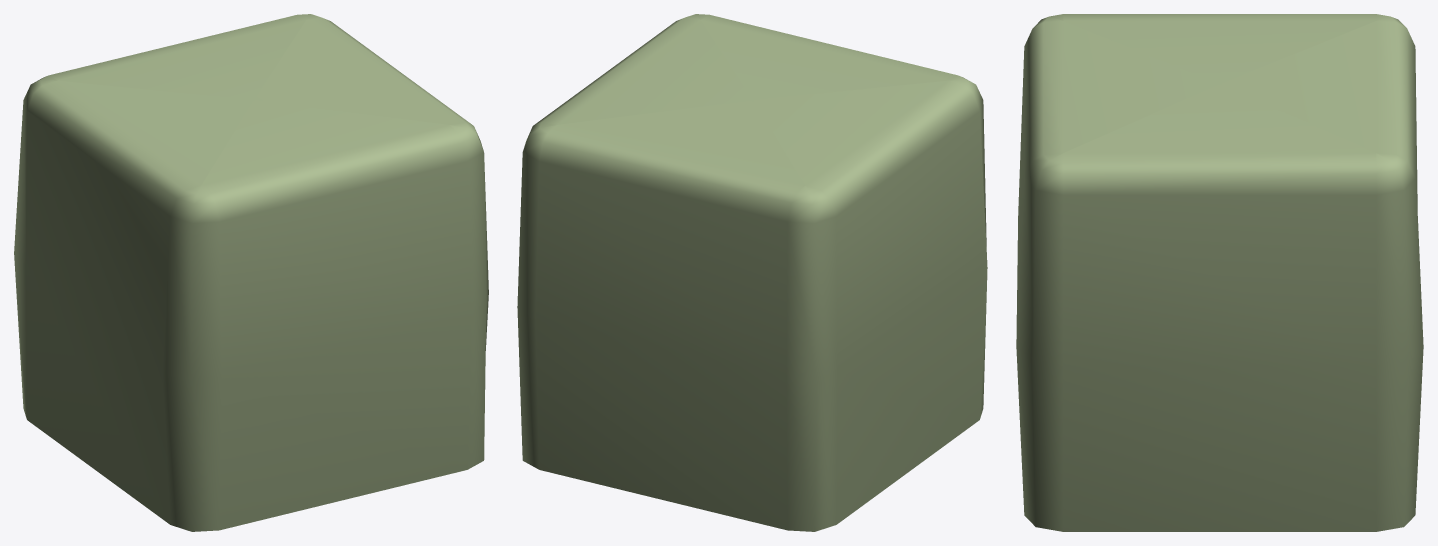
The model's file is ground-top.glb.
3 views of the same model, side by side, from view 1: azimuth 30°, elevation 25°; view 2: azimuth 150°, elevation 25°; view 3: azimuth 270°, elevation 25° (orthographic). The views are drawn at different scales.
Visible parts, largest first — view 1: ground-top; view 2: ground-top; view 3: ground-top.
Part boxes in pixels (x1=…): ground-top: x1=14, y1=14, x2=488, y2=531; ground-top: x1=517, y1=14, x2=987, y2=531; ground-top: x1=1016, y1=14, x2=1423, y2=531.
Size of the model in its own units: 1.05 by 1.03 by 1.04.
